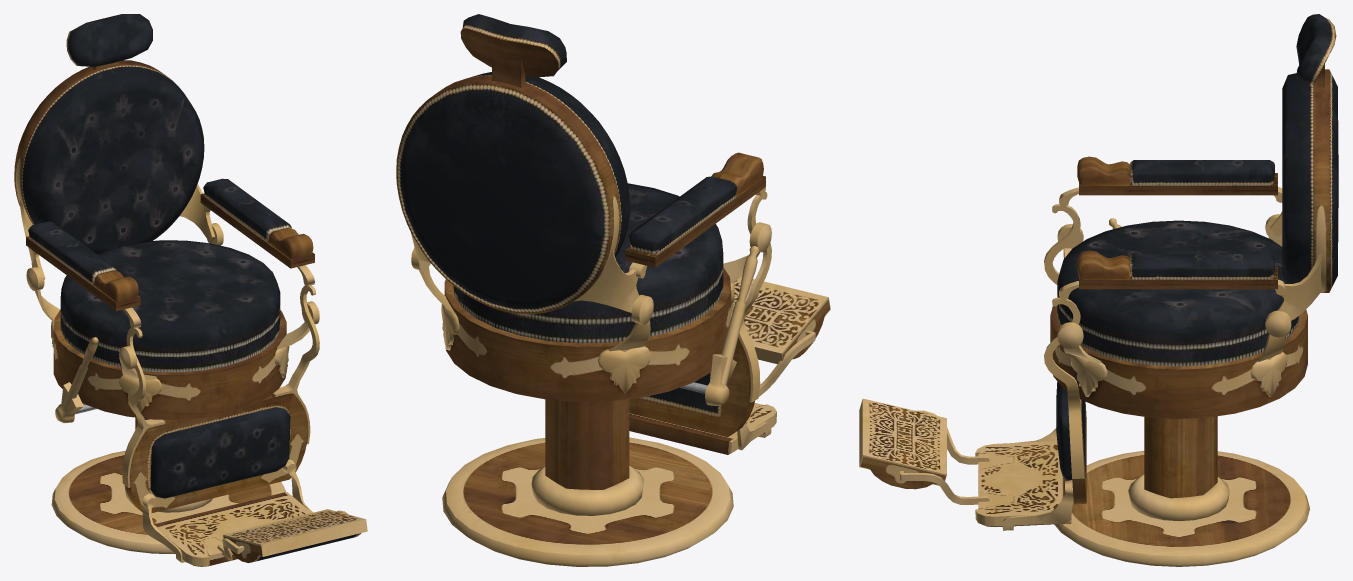
Rendered from ph-BarberShopChair_01.glb.
3 renders of one model, left to right at view 1: azimuth 30°, elevation 25°; view 2: azimuth 150°, elevation 25°; view 3: azimuth 270°, elevation 25°, orthographic. The views are drawn at different scales.
Parts seen in each view (by area): view 1: BarberShopChair_01; view 2: BarberShopChair_01; view 3: BarberShopChair_01.
Boxes of the visible parts, x1,y1,x2,y2 form: BarberShopChair_01: (14, 14, 367, 566); BarberShopChair_01: (396, 14, 830, 566); BarberShopChair_01: (859, 14, 1338, 566).
Bounding box in the file's own units: 0.5081 × 1 × 0.8918.
1 material, 1 textured.
